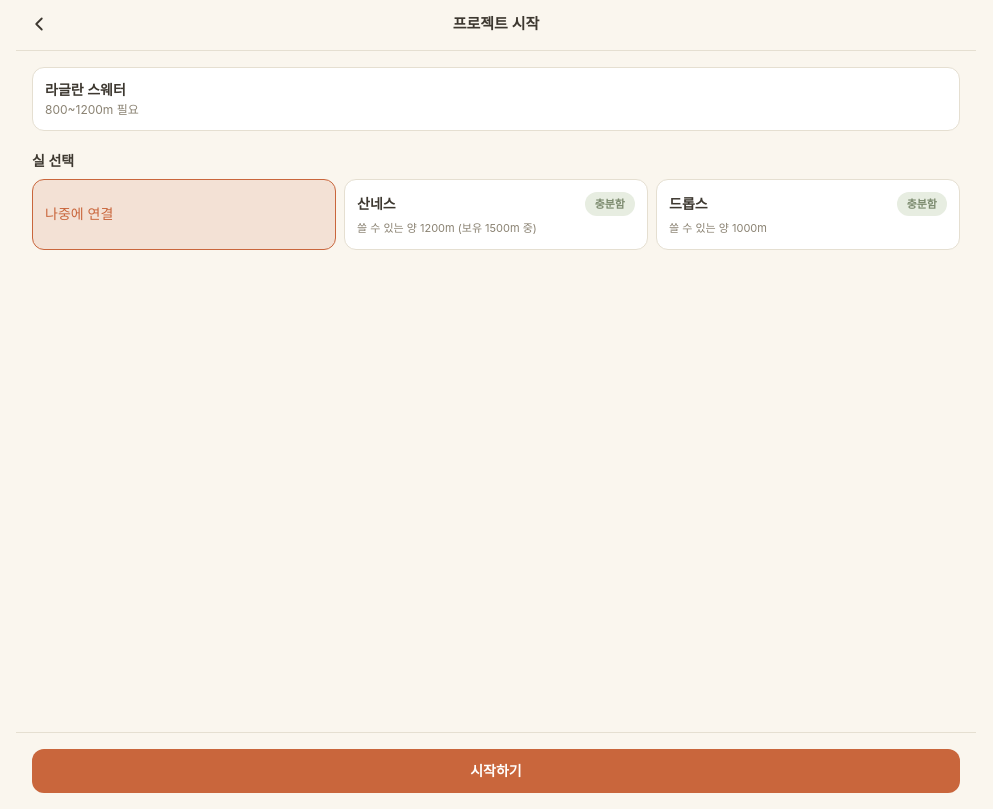
Scenario: ProjectStartPage › 시작이 거부되면 사유를 토스트로 보여주고 화면에 남는다
Expected: the text "산네스" is shown, [357,194,396,214]
Click the button "시작하기": (496, 771) [32,749,960,793]
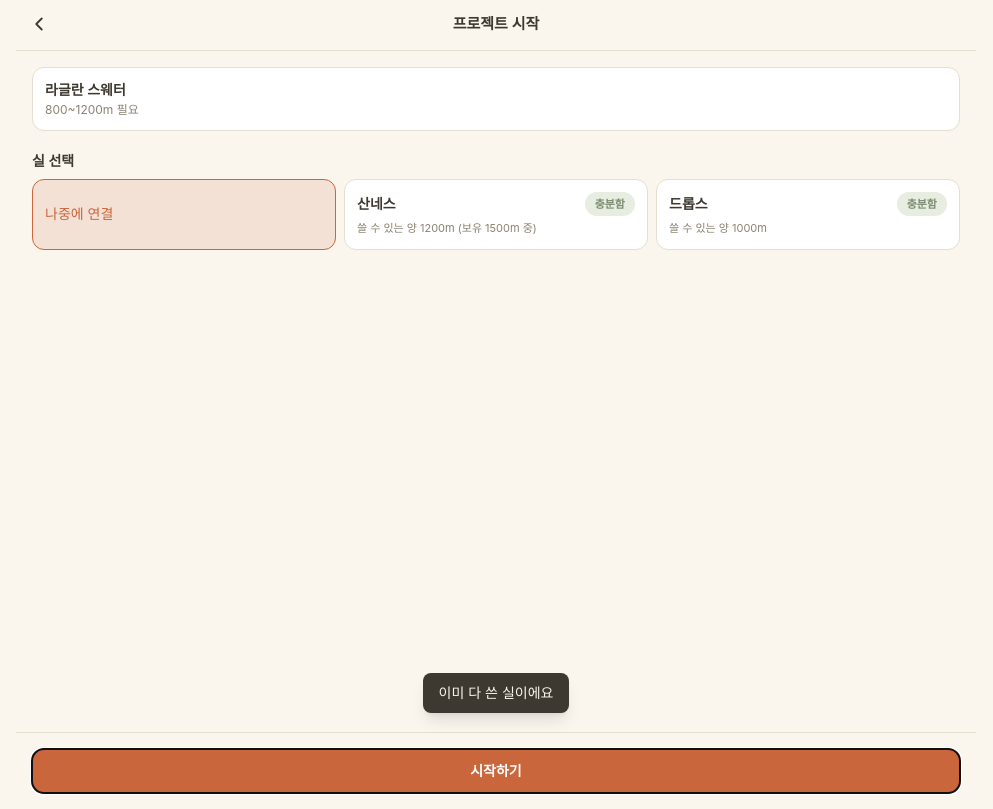
Expected: the message reads "이미 다 쓴 실이에요", [439,684,554,701]
